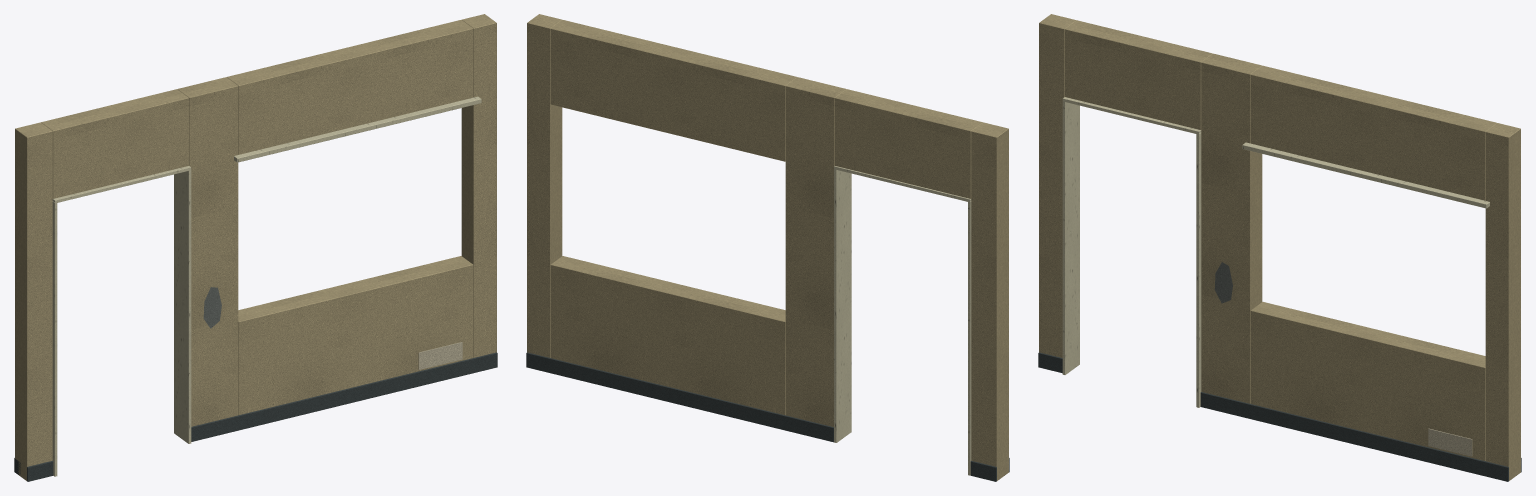
Rendered from room_facade_4m.glb.
3 renders of one model, left to right at view 1: azimuth 30°, elevation 25°; view 2: azimuth 150°, elevation 25°; view 3: azimuth 330°, elevation 25°, orthographic.
Visible parts, largest first — view 1: room_facade_4m; view 2: room_facade_4m; view 3: room_facade_4m.
Boxes of the visible parts, <box> form: room_facade_4m: <box>14,14,497,481</box>; room_facade_4m: <box>526,14,1009,481</box>; room_facade_4m: <box>1038,14,1521,481</box>.
Bounding box in the file's own units: 4 × 2.8 × 0.24.
Materials: 5 (5 with a texture image).
